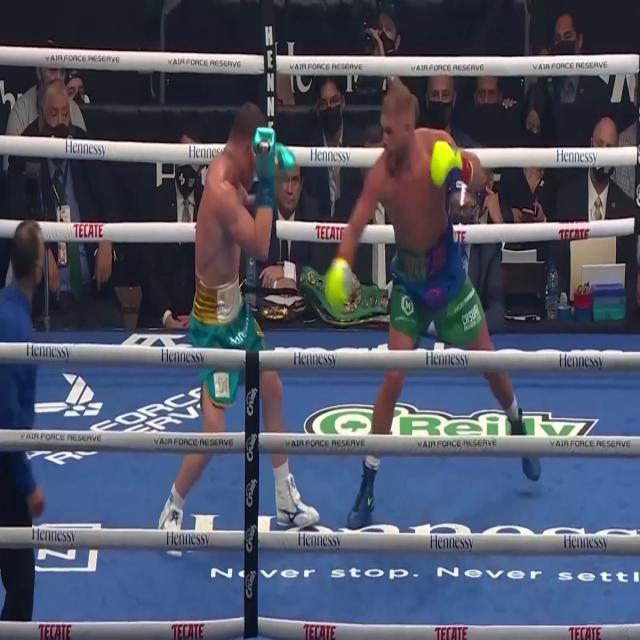boxer_1: (381, 81, 454, 280)
boxer_2: (191, 102, 268, 324)
gloves_1: (430, 141, 473, 187), (324, 260, 354, 310)
gloves_2: (253, 123, 276, 208), (274, 143, 298, 174)
